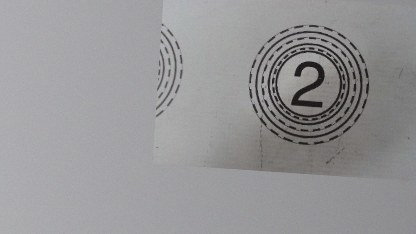2r: (242, 20, 373, 149)
